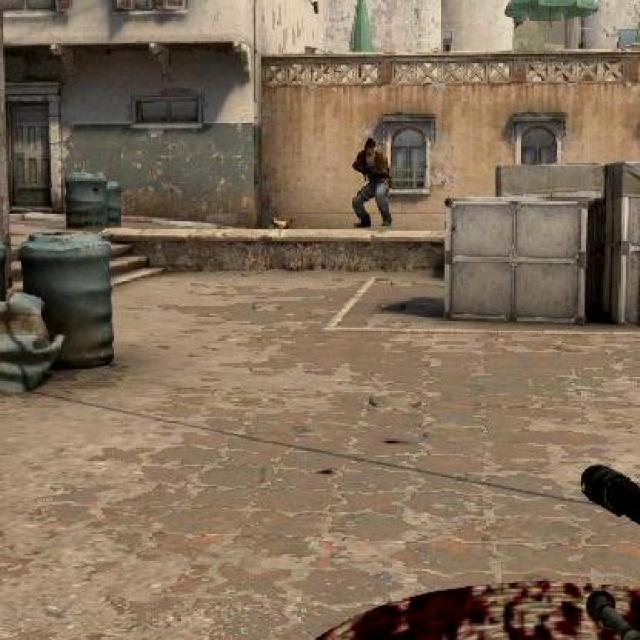Dead: (363, 136, 382, 152)
T-Body: (352, 134, 396, 231)
